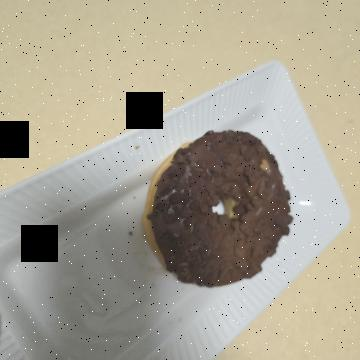doughnut: (126, 58, 310, 224)
